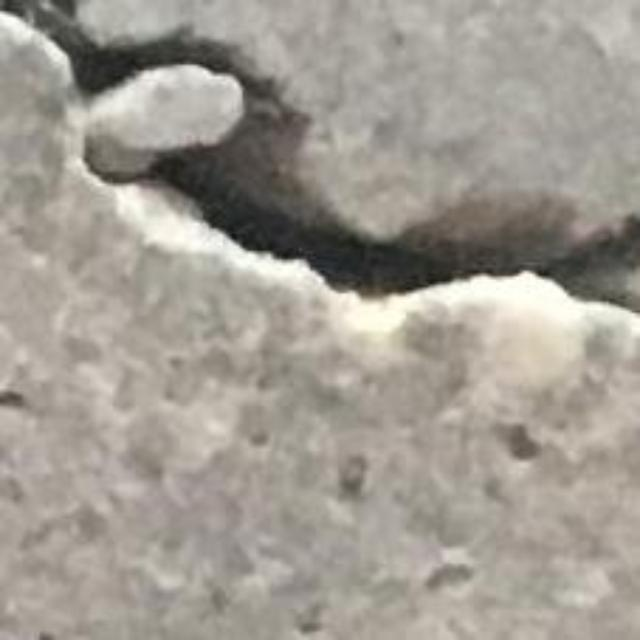crack: (0, 0, 639, 312)
